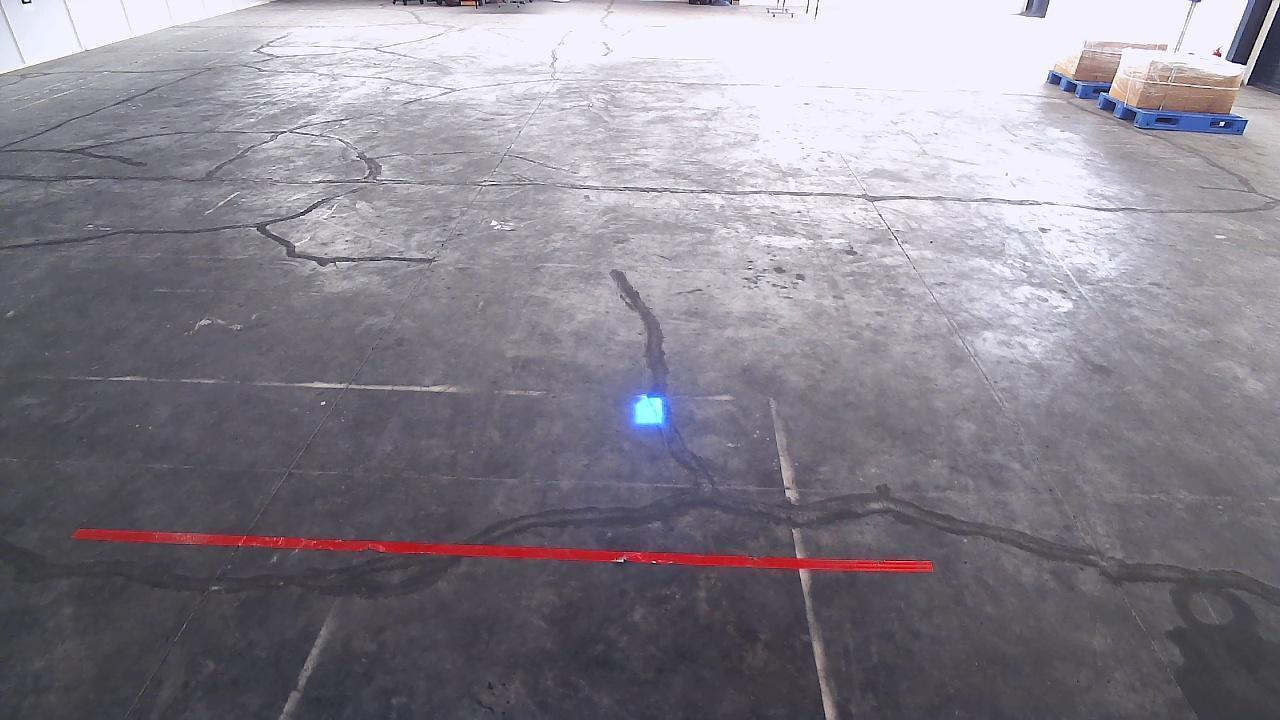red_line: (73, 523, 932, 570)
